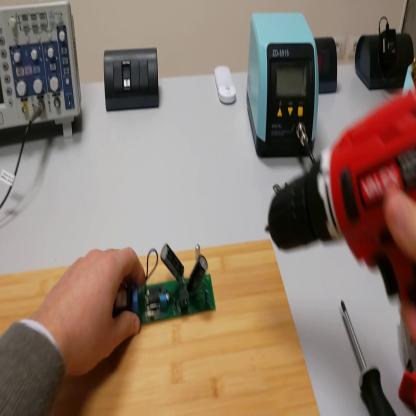electric screwdriver: (263, 89, 416, 416)
hand: (44, 249, 146, 376), (387, 175, 416, 252)
high voltage board: (116, 239, 218, 320)
oscilloscope: (3, 3, 83, 149)
screwdriver-: (339, 296, 399, 415)
socket: (356, 32, 412, 89), (315, 37, 339, 99)
welder base: (403, 60, 416, 96)
welder station: (248, 13, 319, 160)
working area: (7, 239, 320, 414)
